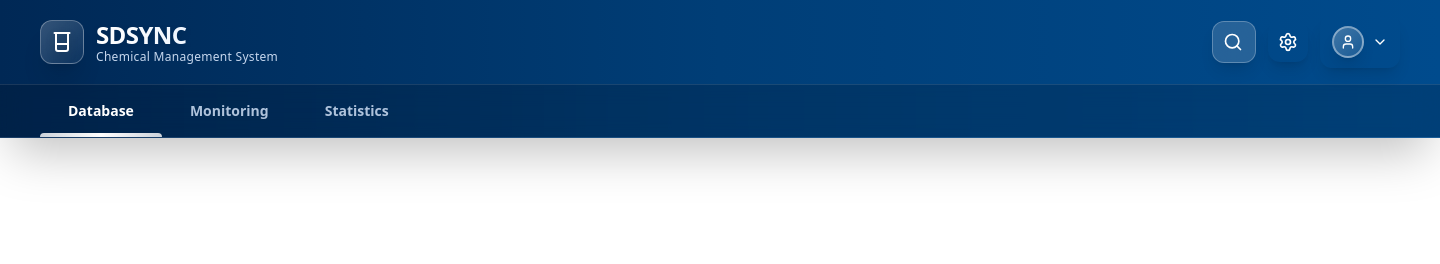
it: SdsyncTopBar › shows Add User option for admin only
Click the button named "user menu" at (1360, 42), box x1=1320 y1=16 x2=1400 y2=68
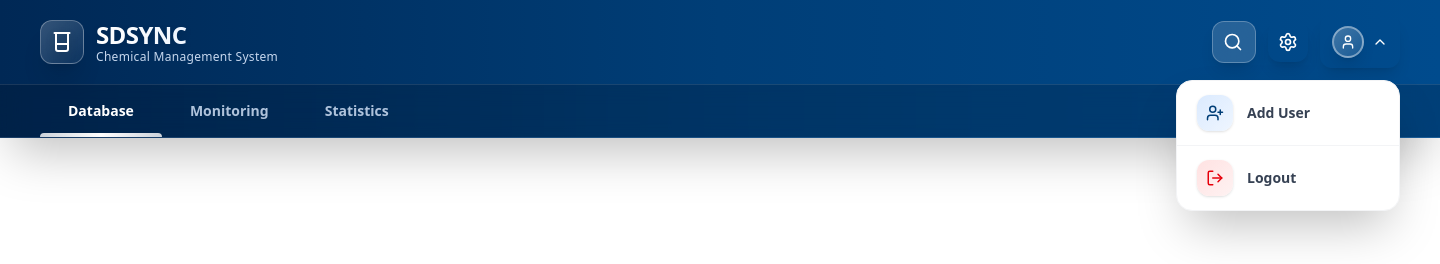
Check: the text "Add User" is shown, box x1=1247 y1=103 x2=1310 y2=123
